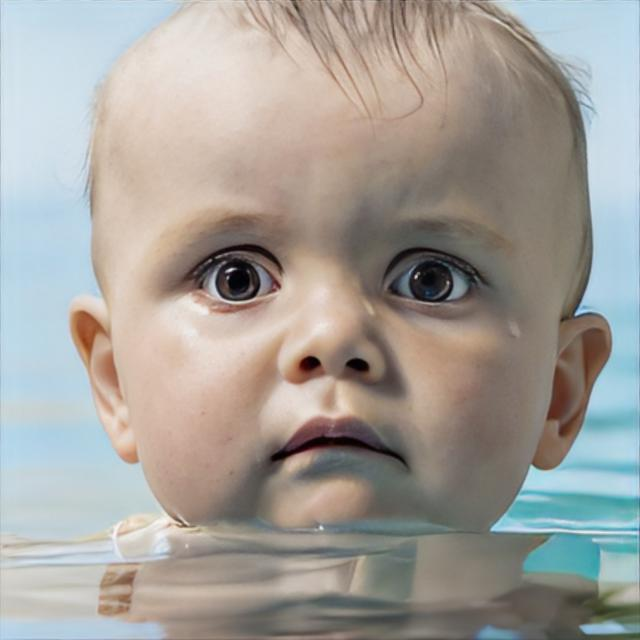Fear: (88, 0, 577, 543)
